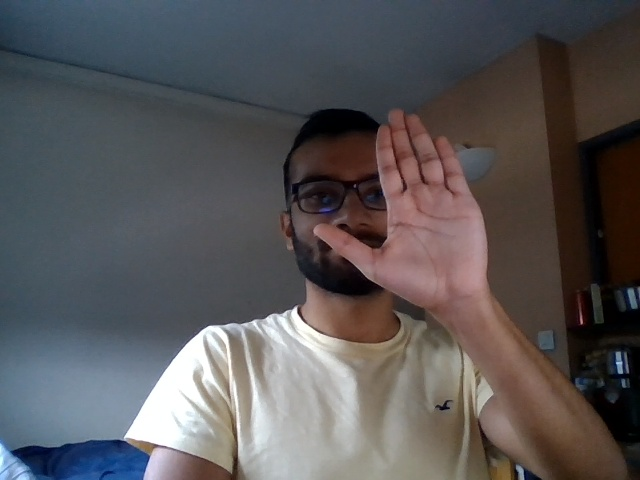Hello: (306, 103, 500, 307)
